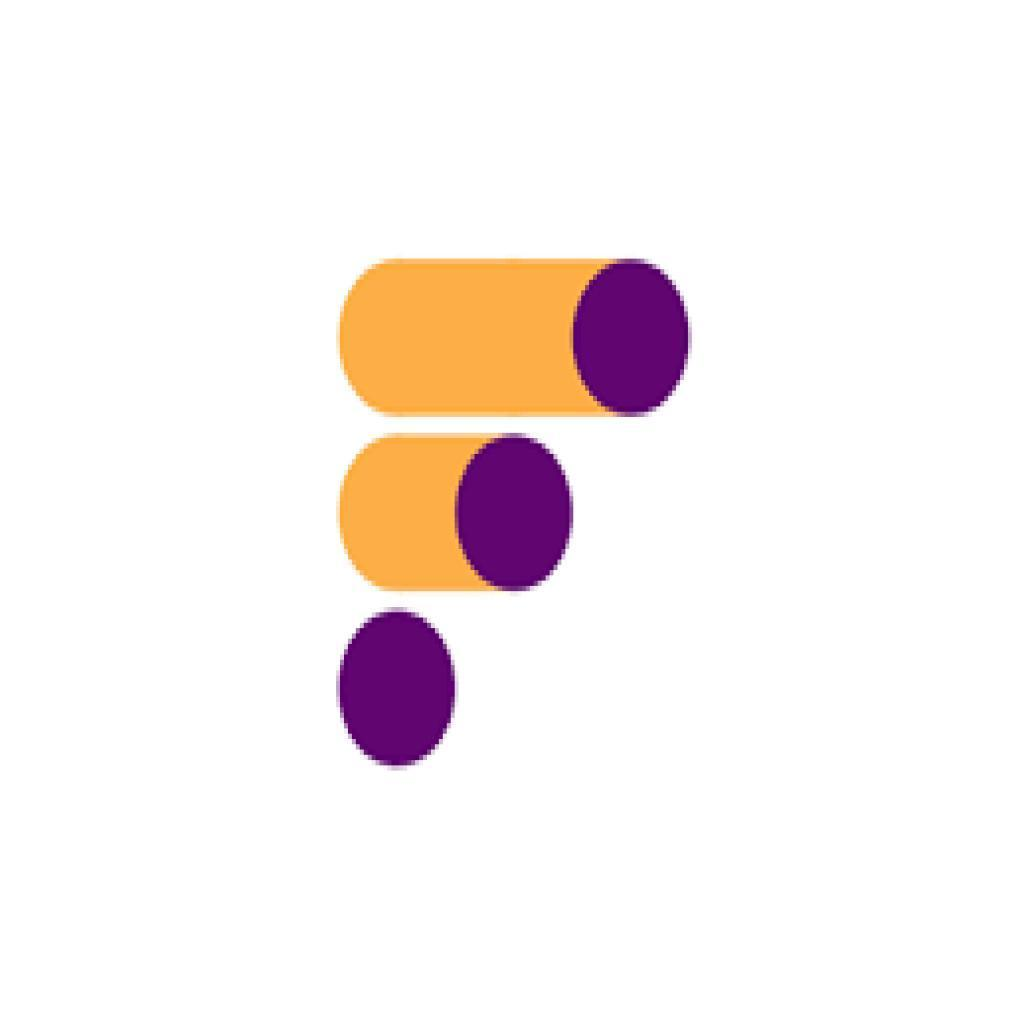radio: (335, 607, 460, 775)
switch: (341, 258, 693, 417), (339, 435, 577, 593)
